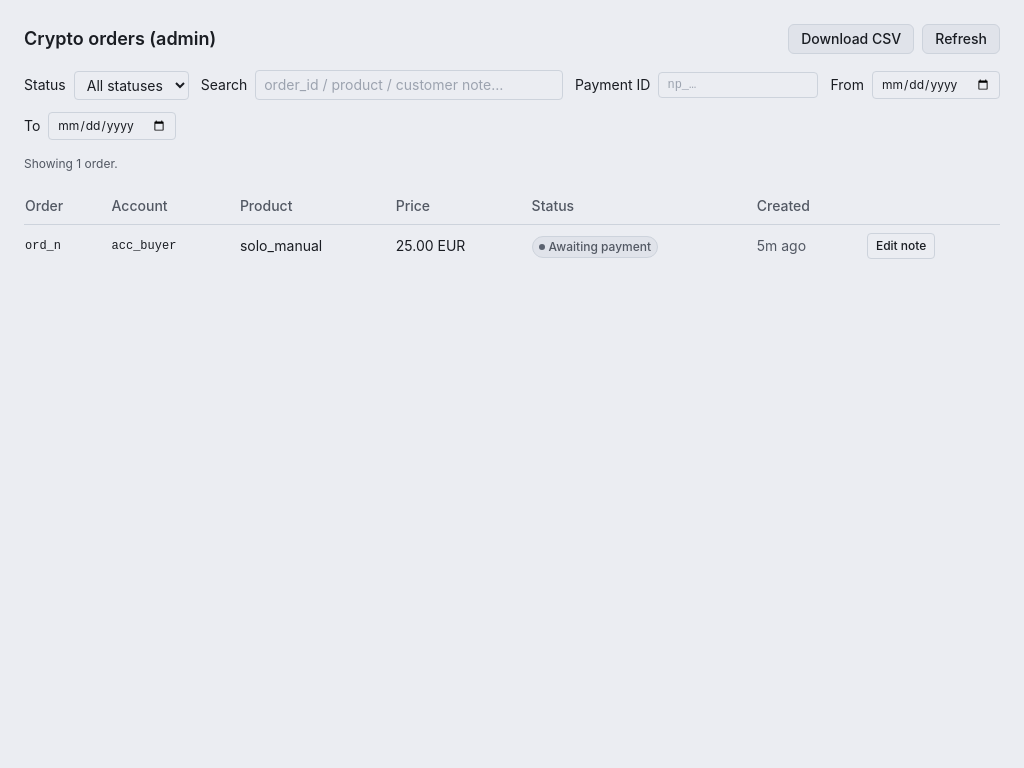
Test: V-534.AL CryptoOrdersAdminView — internal note editor › clicking the button opens the editor pre-filled with the current value
Click the button with aria-label "Edit internal note for ord_n".
click(901, 246)  # box 867,233 -> 935,259
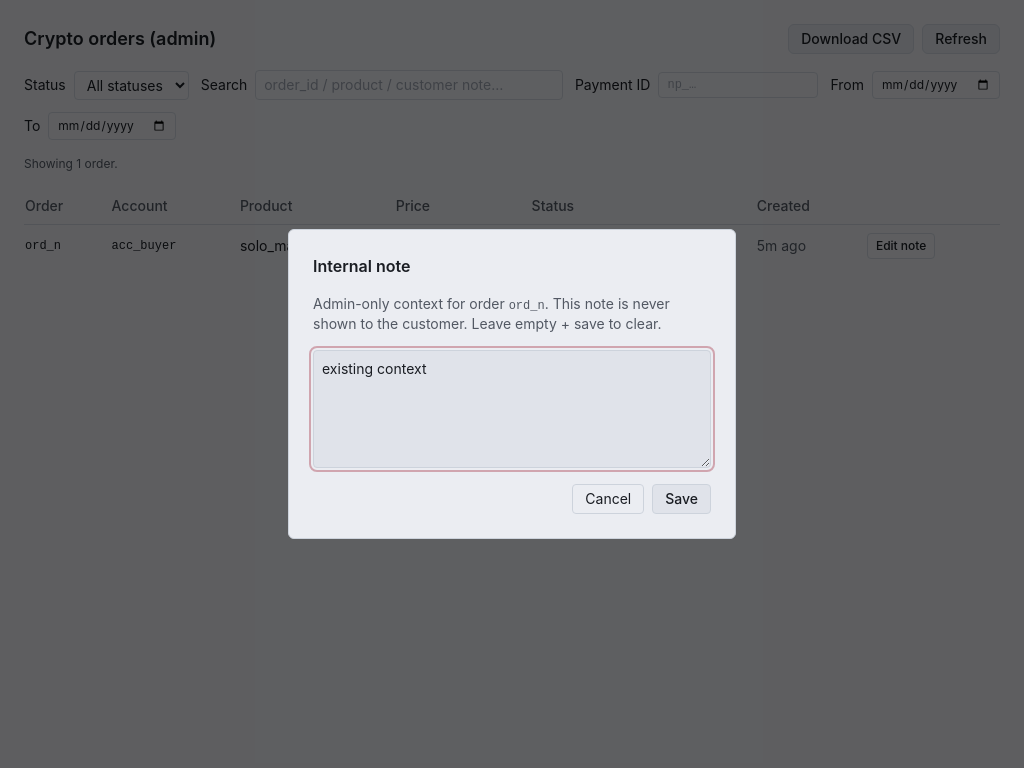
Expected: the dialog named "Edit internal note" is shown
Expected: the text box holds "existing context", 313,350 -> 711,468
